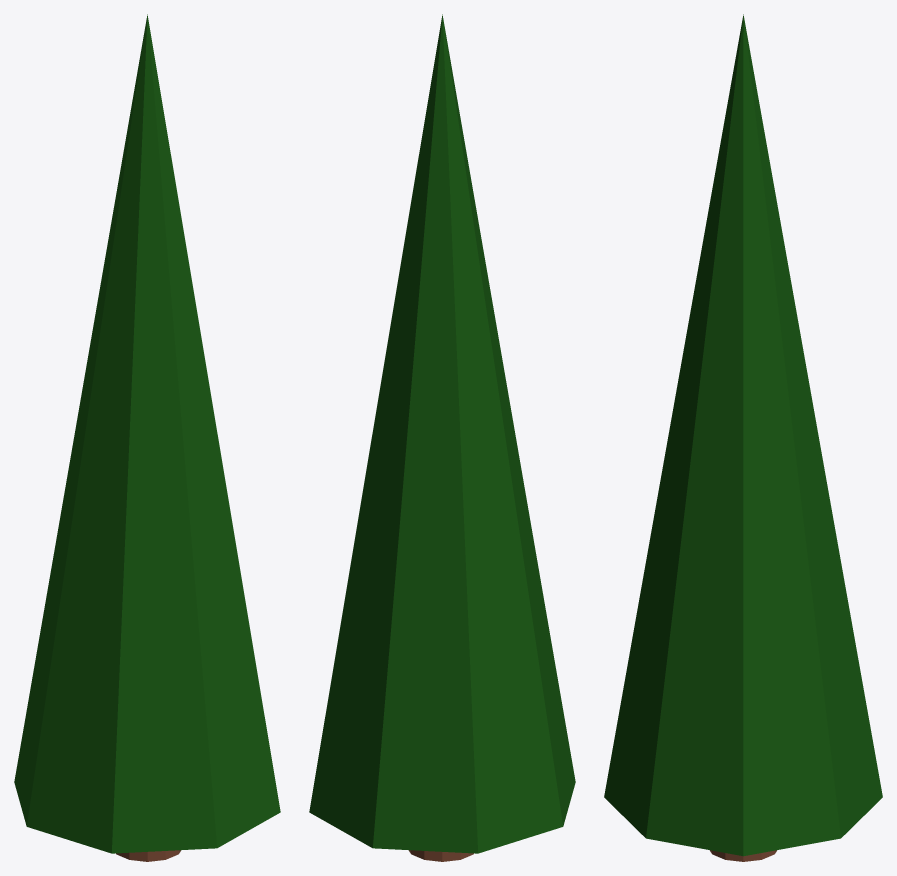
Rendered from Tree_24_autumn_mat.fbx.
The picture shows the model from 3 angles, left to right: view 1: azimuth 30°, elevation 25°; view 2: azimuth 150°, elevation 25°; view 3: azimuth 270°, elevation 25°; orthographic projection.
Visible parts, largest first — view 1: Tree_24_autumn_mat; view 2: Tree_24_autumn_mat; view 3: Tree_24_autumn_mat.
Boxes of the visible parts, <box> form: Tree_24_autumn_mat: <box>14,14,280,861</box>; Tree_24_autumn_mat: <box>309,14,575,861</box>; Tree_24_autumn_mat: <box>604,14,882,861</box>.
Bounding box in the file's own units: 3.41 × 11.25 × 3.41.
